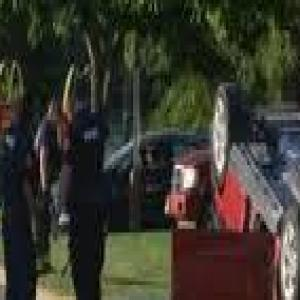critical: (162, 75, 300, 300)
